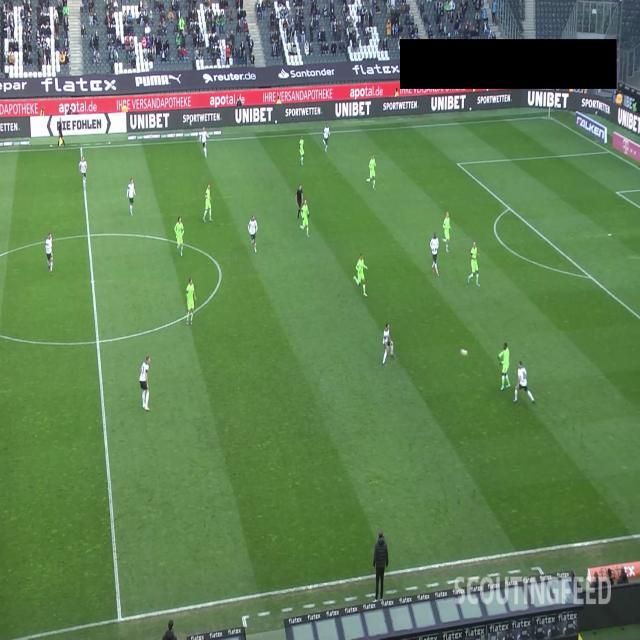ball: (460, 349, 468, 356)
player: (513, 359, 535, 404), (139, 355, 151, 411), (355, 252, 368, 297), (498, 342, 510, 390), (468, 240, 480, 286), (186, 278, 197, 327), (382, 322, 394, 366), (430, 231, 440, 276), (203, 182, 213, 223), (198, 124, 210, 158), (174, 216, 184, 256), (300, 198, 310, 237), (126, 177, 136, 216), (248, 214, 258, 253), (367, 154, 377, 190), (443, 210, 451, 253), (46, 232, 54, 274), (79, 155, 87, 184), (323, 124, 330, 152), (299, 135, 305, 165)
referee: (296, 184, 304, 218), (57, 119, 66, 149)
